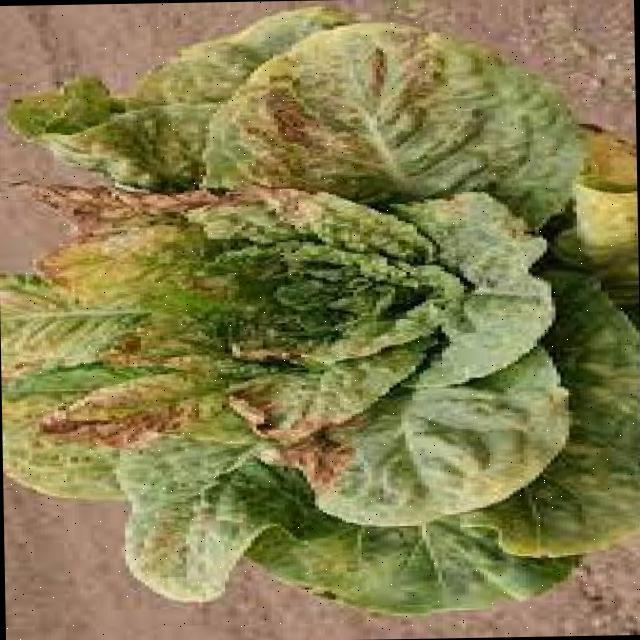Lettuce Mosaic Virus: (50, 181, 471, 494)
